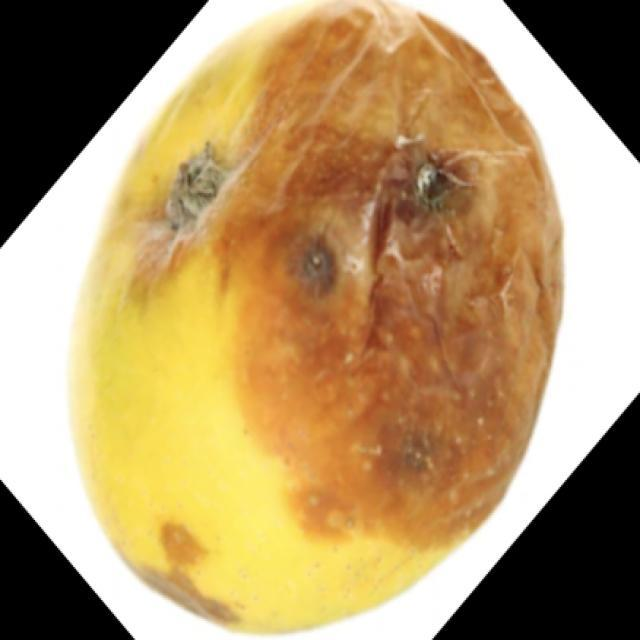Rotten: (55, 10, 565, 617)
